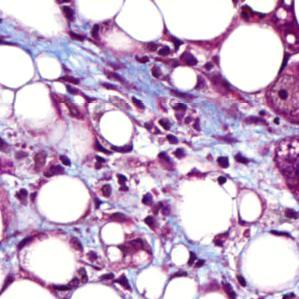steatosis: (221, 26, 285, 91), (33, 177, 97, 221), (97, 109, 136, 146)
